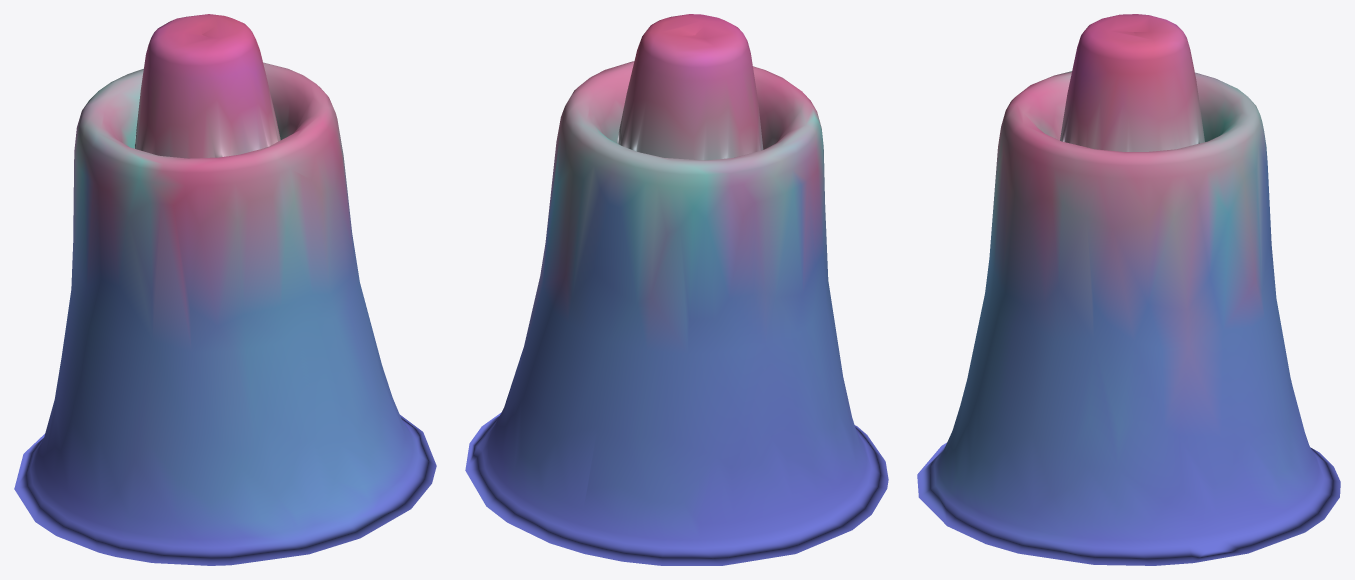
3 renders of one model, left to right at view 1: azimuth 30°, elevation 25°; view 2: azimuth 150°, elevation 25°; view 3: azimuth 270°, elevation 25°, orthographic.
Parts seen in each view (by area): view 1: LOD 3_9fa1a421-f8e0-511a-904e-ad4428e58ba6; view 2: LOD 3_9fa1a421-f8e0-511a-904e-ad4428e58ba6; view 3: LOD 3_9fa1a421-f8e0-511a-904e-ad4428e58ba6.
Boxes of the visible parts, bbox=[...] form: LOD 3_9fa1a421-f8e0-511a-904e-ad4428e58ba6: bbox=[14, 14, 436, 565]; LOD 3_9fa1a421-f8e0-511a-904e-ad4428e58ba6: bbox=[465, 14, 888, 565]; LOD 3_9fa1a421-f8e0-511a-904e-ad4428e58ba6: bbox=[917, 14, 1340, 565].
Bounding box in the file's own units: 1.25 × 1.49 × 1.25.
